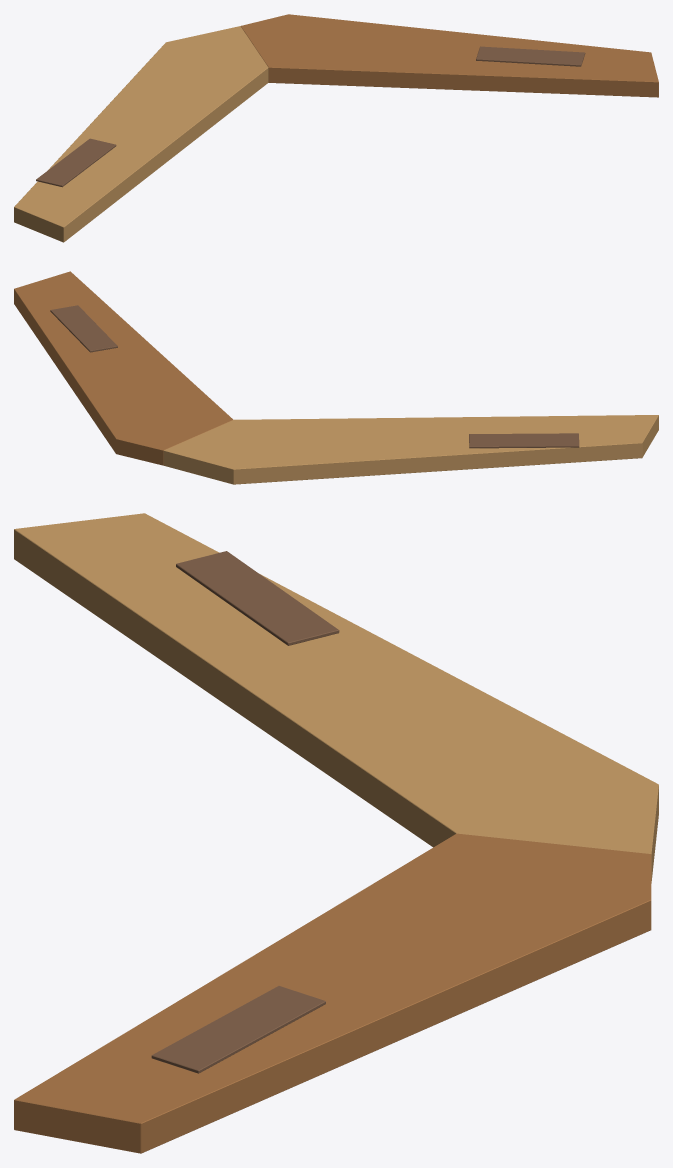
The model's file is b17_wooden_boomerang.glb.
3 renders of one model, top to bottom at view 1: azimuth 30°, elevation 25°; view 2: azimuth 150°, elevation 25°; view 3: azimuth 270°, elevation 25°, orthographic. The views are drawn at different scales.
Visible parts, largest first — view 1: b17_wooden_boomerang; view 2: b17_wooden_boomerang; view 3: b17_wooden_boomerang.
Part boxes in pixels (<box>): b17_wooden_boomerang: <box>14,14,658,242</box>; b17_wooden_boomerang: <box>14,271,658,484</box>; b17_wooden_boomerang: <box>14,513,658,1153</box>.
Size of the model in its own units: 0.3849 by 0.01 by 0.1719.
